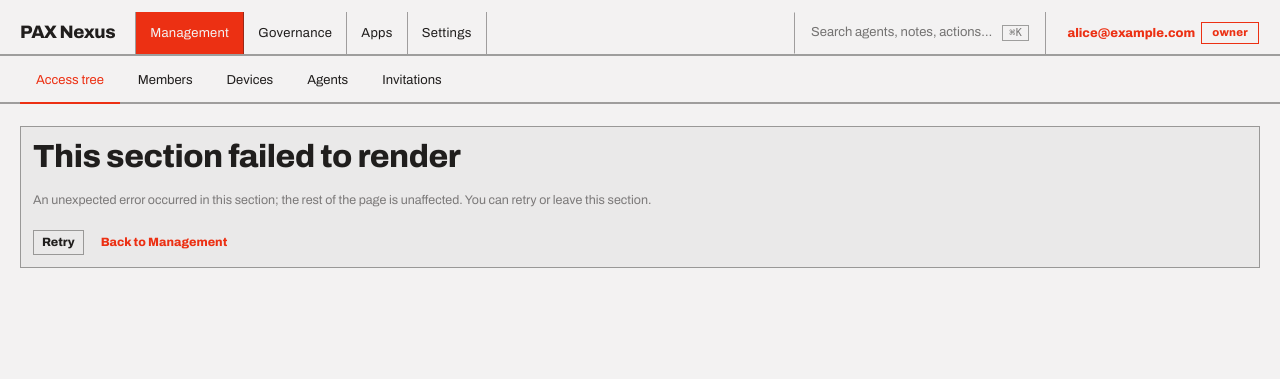
Scenario: route boundary: a failing route keeps the shell usable › navigating to another route recovers the content area
Expected: the message is shown, [20, 126, 1260, 268]
Click the link "Invitations" at (412, 80), box [382, 73, 442, 87]
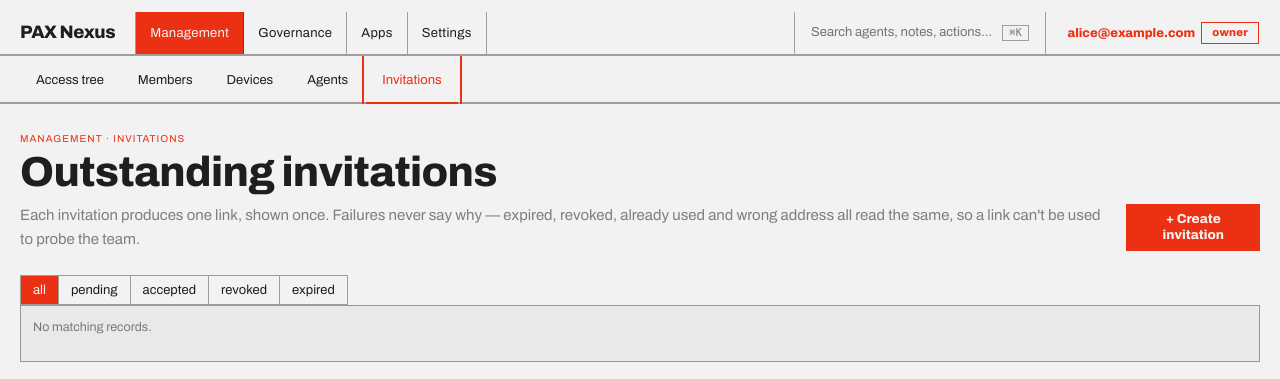
Result: the heading "Outstanding invitations" is shown at [20, 149, 497, 195]
Result: the message "This section failed to render An unexpected error occurred in this section; the" is gone
